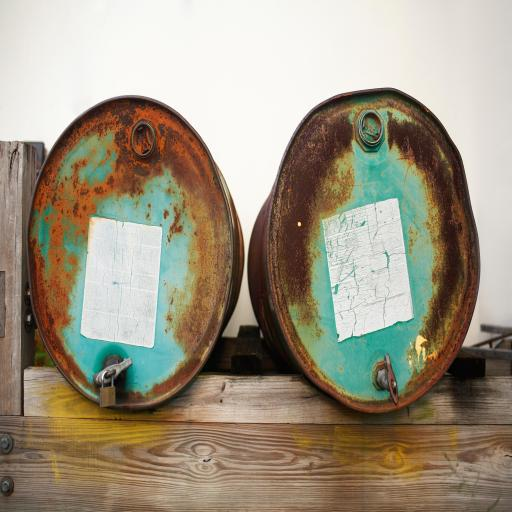segmentation: (25, 96, 232, 407), (350, 88, 479, 405), (269, 91, 354, 402), (248, 192, 291, 367), (216, 166, 244, 331), (350, 381, 410, 412), (167, 206, 183, 242), (163, 209, 169, 219)
